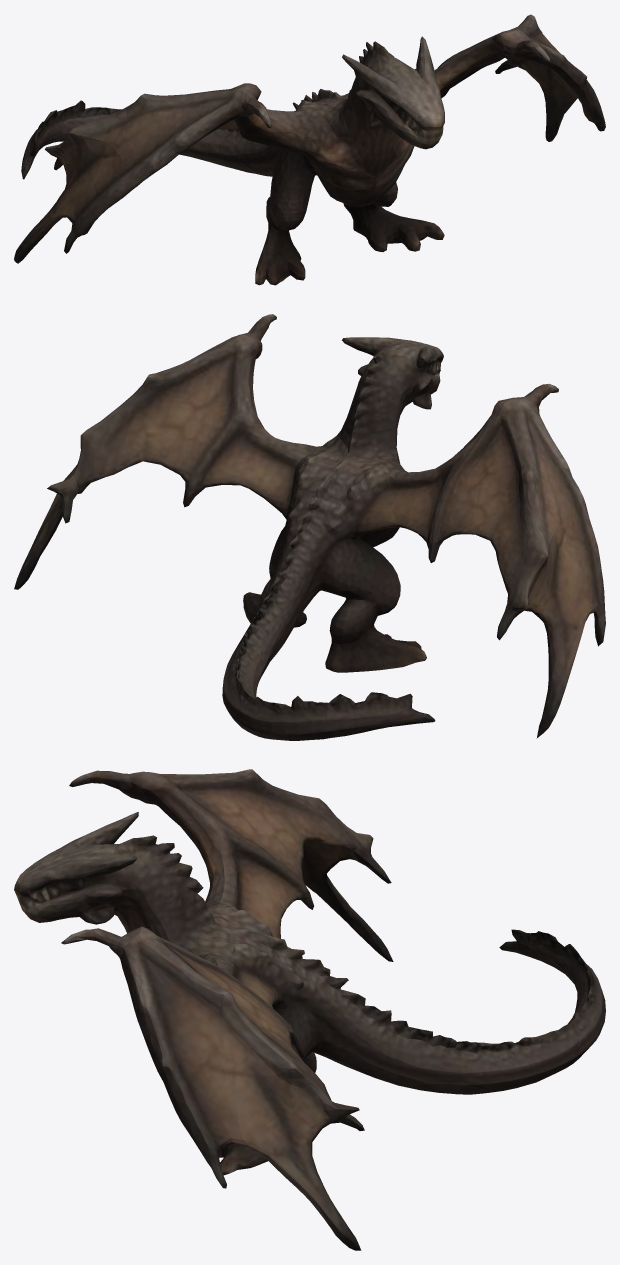
Rendered from dragon.glb.
The picture shows the model from 3 angles, top to bottom: view 1: azimuth 30°, elevation 25°; view 2: azimuth 150°, elevation 25°; view 3: azimuth 270°, elevation 25°; orthographic projection. The views are drawn at different scales.
Visible parts, largest first — view 1: world; view 2: world; view 3: world.
Boxes of the visible parts, bbox=[...] form: world: bbox=[14, 14, 605, 285]; world: bbox=[14, 314, 605, 740]; world: bbox=[14, 769, 605, 1250].
Size of the model in its own units: 0.9946 by 0.4533 by 0.8208.
Materials: 1 (1 with a texture image).
